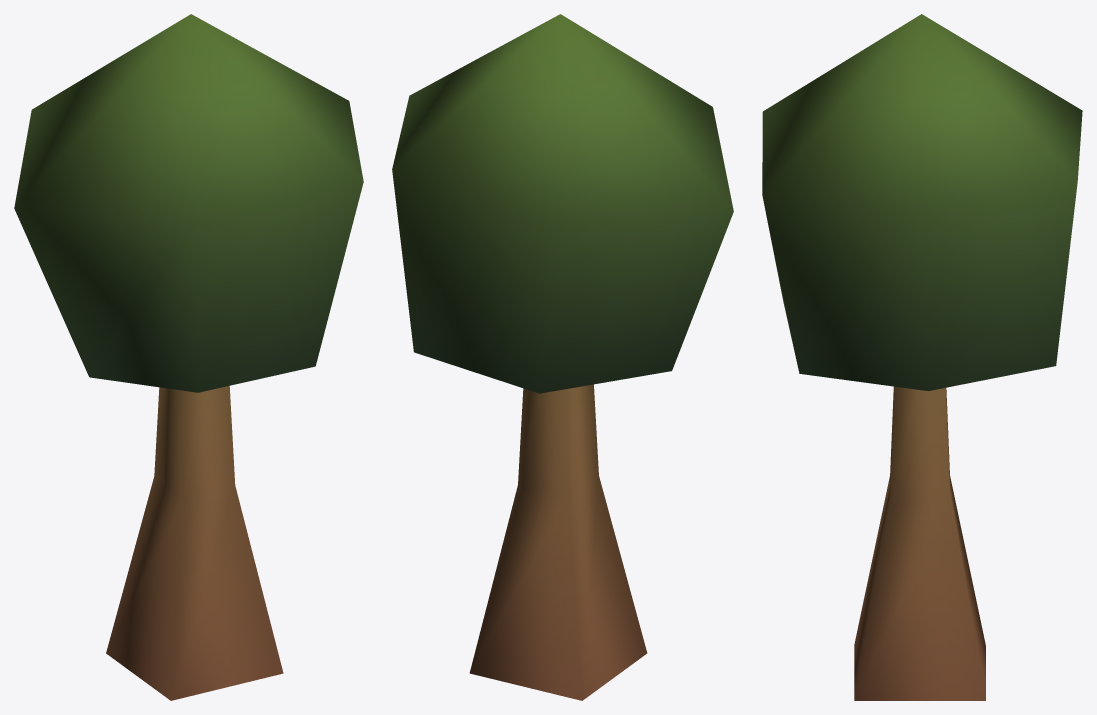
Rendered from TreeLow002.glb.
The picture shows the model from 3 angles, left to right: view 1: azimuth 30°, elevation 25°; view 2: azimuth 150°, elevation 25°; view 3: azimuth 270°, elevation 25°; orthographic projection.
Parts seen in each view (by area): view 1: TreeLow002; view 2: TreeLow002; view 3: TreeLow002.
Boxes of the visible parts, left/top/right/bottom form: TreeLow002: left=14, top=14, right=363, bottom=700; TreeLow002: left=392, top=14, right=733, bottom=700; TreeLow002: left=762, top=14, right=1082, bottom=700.
Size of the model in its own units: 248 by 467 by 206.
Materials: 1 (1 with a texture image).
